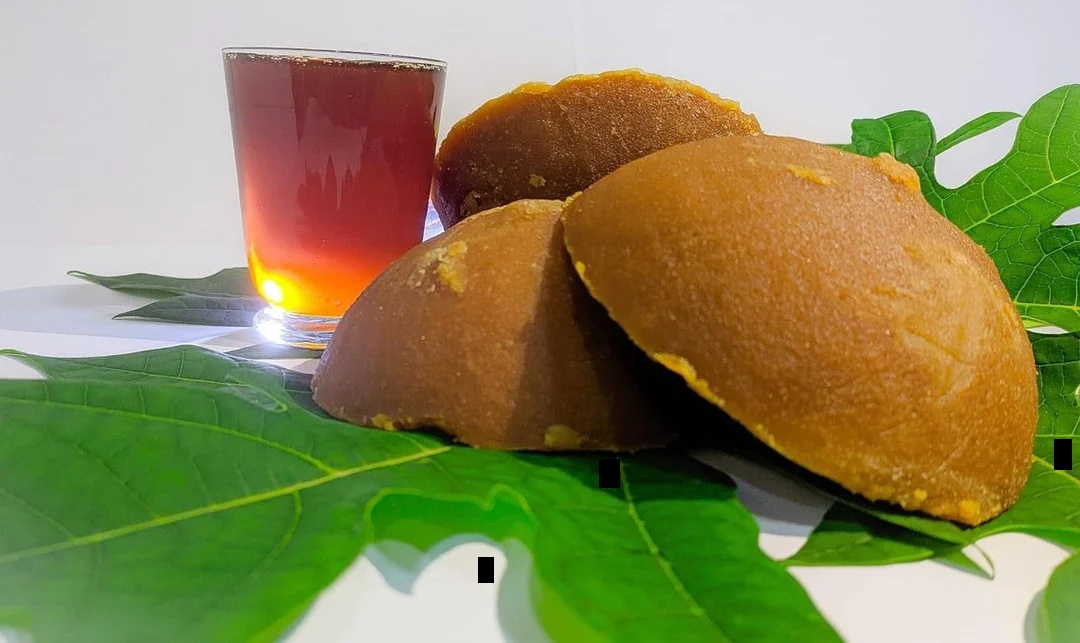hakuru: (557, 127, 1044, 527), (309, 192, 662, 457)
